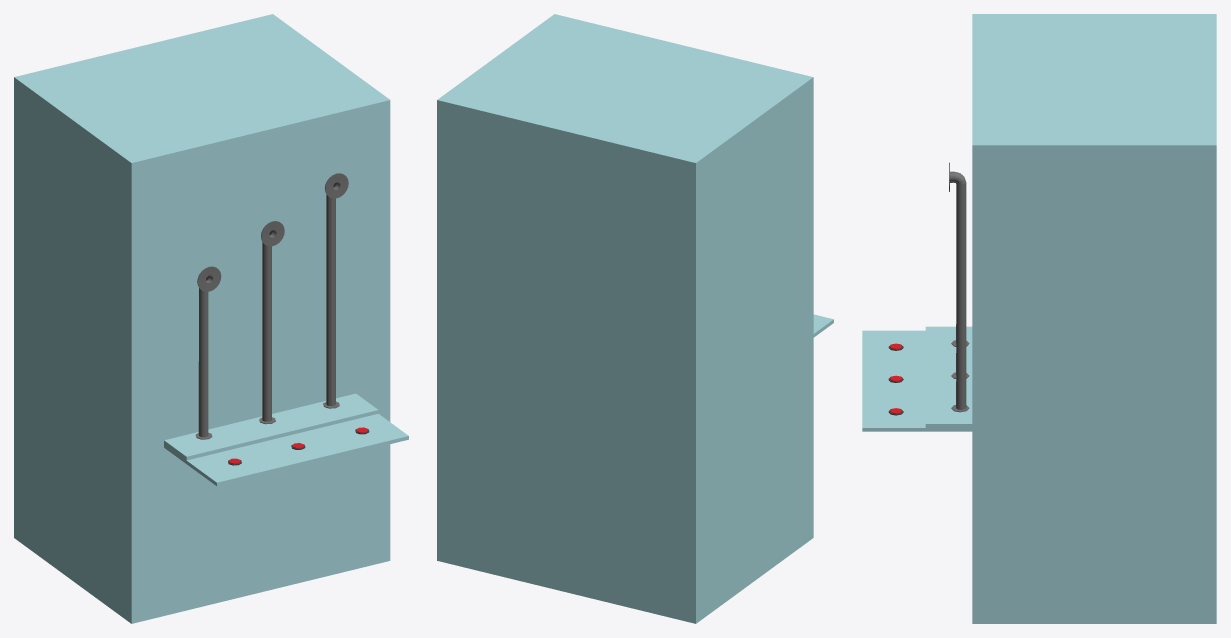
File: Tubos sonoros2.fbx
3 renders of one model, left to right at view 1: azimuth 30°, elevation 25°; view 2: azimuth 150°, elevation 25°; view 3: azimuth 270°, elevation 25°, orthographic. The views are drawn at different scales.
Parts seen in each view (by area): view 1: pared, Mesa, Tubos; view 2: pared; view 3: pared, Mesa, Tubos.
Part boxes in pixels (box(x1,y1,x2,y2)): pared: box(14, 14, 390, 623); Mesa: box(164, 393, 408, 486); Tubos: box(197, 173, 348, 437); pared: box(437, 14, 813, 623); pared: box(972, 14, 1216, 623); Mesa: box(862, 326, 972, 431); Tubos: box(949, 162, 966, 409).
Size of the model in its own units: 308 by 525 by 352.
